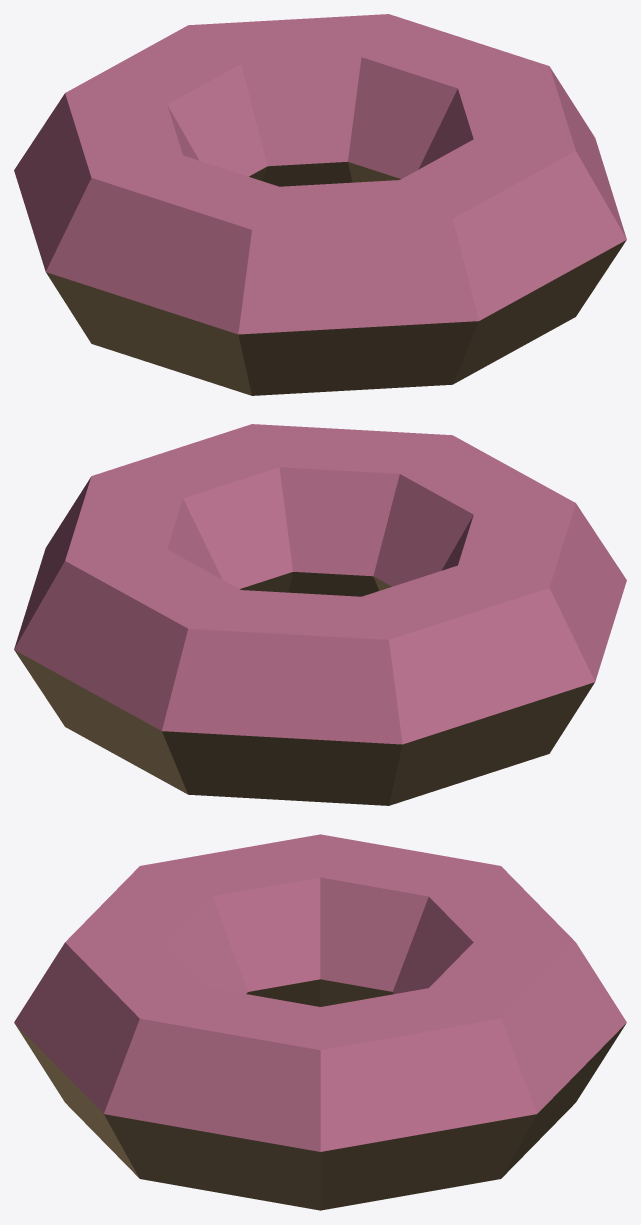
File: SM_Prop_Sign_Donut_01.fbx
The picture shows the model from 3 angles, top to bottom: view 1: azimuth 30°, elevation 25°; view 2: azimuth 150°, elevation 25°; view 3: azimuth 270°, elevation 25°; orthographic projection. The views are drawn at different scales.
Visible parts, largest first — view 1: SM_Prop_Sign_Donut_01; view 2: SM_Prop_Sign_Donut_01; view 3: SM_Prop_Sign_Donut_01.
Part boxes in pixels (x1,y1,x2,y2): SM_Prop_Sign_Donut_01: (14,14,626,395); SM_Prop_Sign_Donut_01: (14,424,626,805); SM_Prop_Sign_Donut_01: (14,834,626,1210).
Size of the model in its own units: 68.08 by 19.65 by 68.08.
